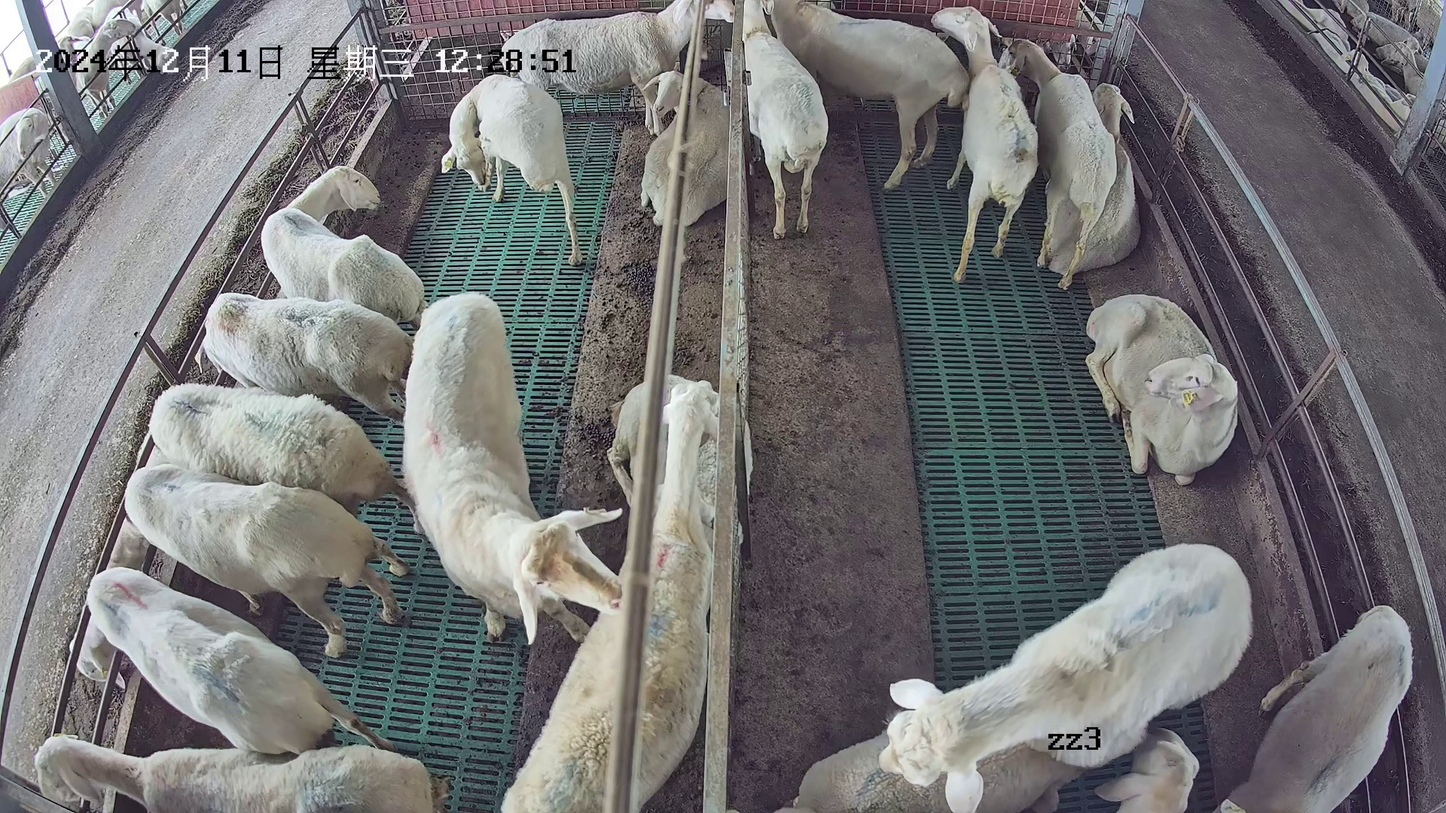Smounting: (785, 540, 1255, 813)
mounted: (787, 729, 1087, 813)
